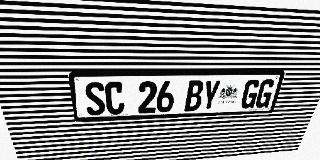2: (139, 81, 157, 113)
6: (156, 81, 175, 112)
B: (184, 80, 204, 111)
C: (104, 81, 124, 115)
G: (239, 79, 261, 109), (254, 79, 276, 108)
S: (83, 82, 106, 116)
Y: (200, 80, 221, 110)
